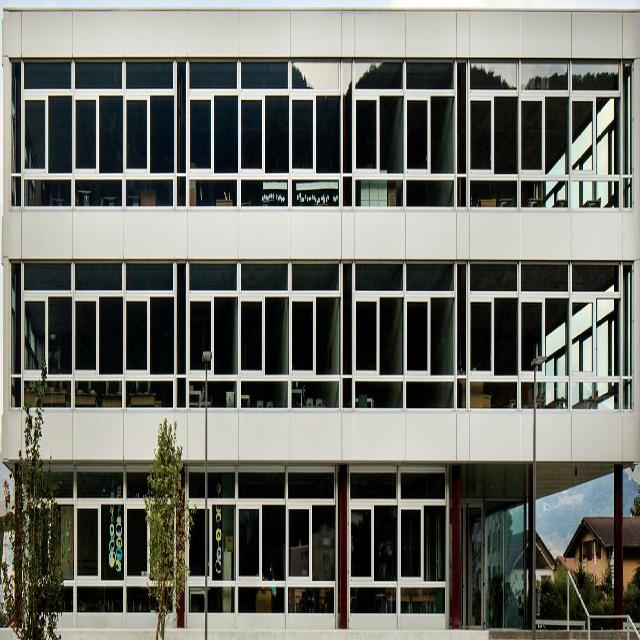door: (459, 496, 525, 631)
window: (6, 254, 627, 408), (7, 50, 627, 203), (186, 472, 334, 612), (351, 468, 446, 612), (64, 474, 144, 609)
